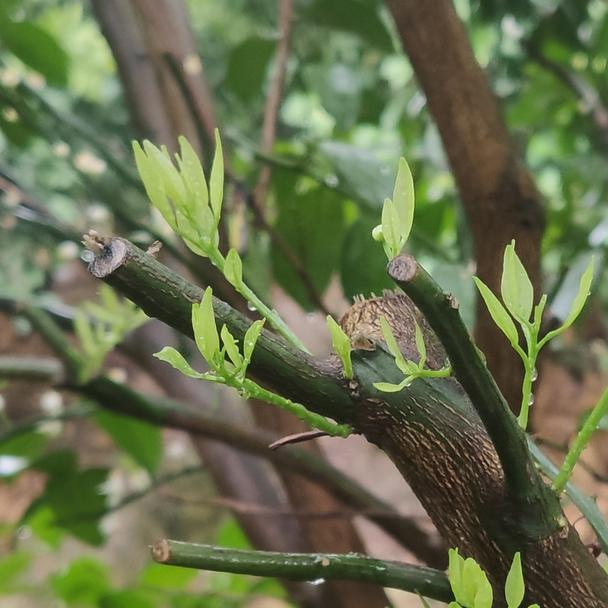shoot: (138, 136, 249, 287), (487, 237, 588, 368), (173, 302, 266, 413), (362, 141, 426, 253)
